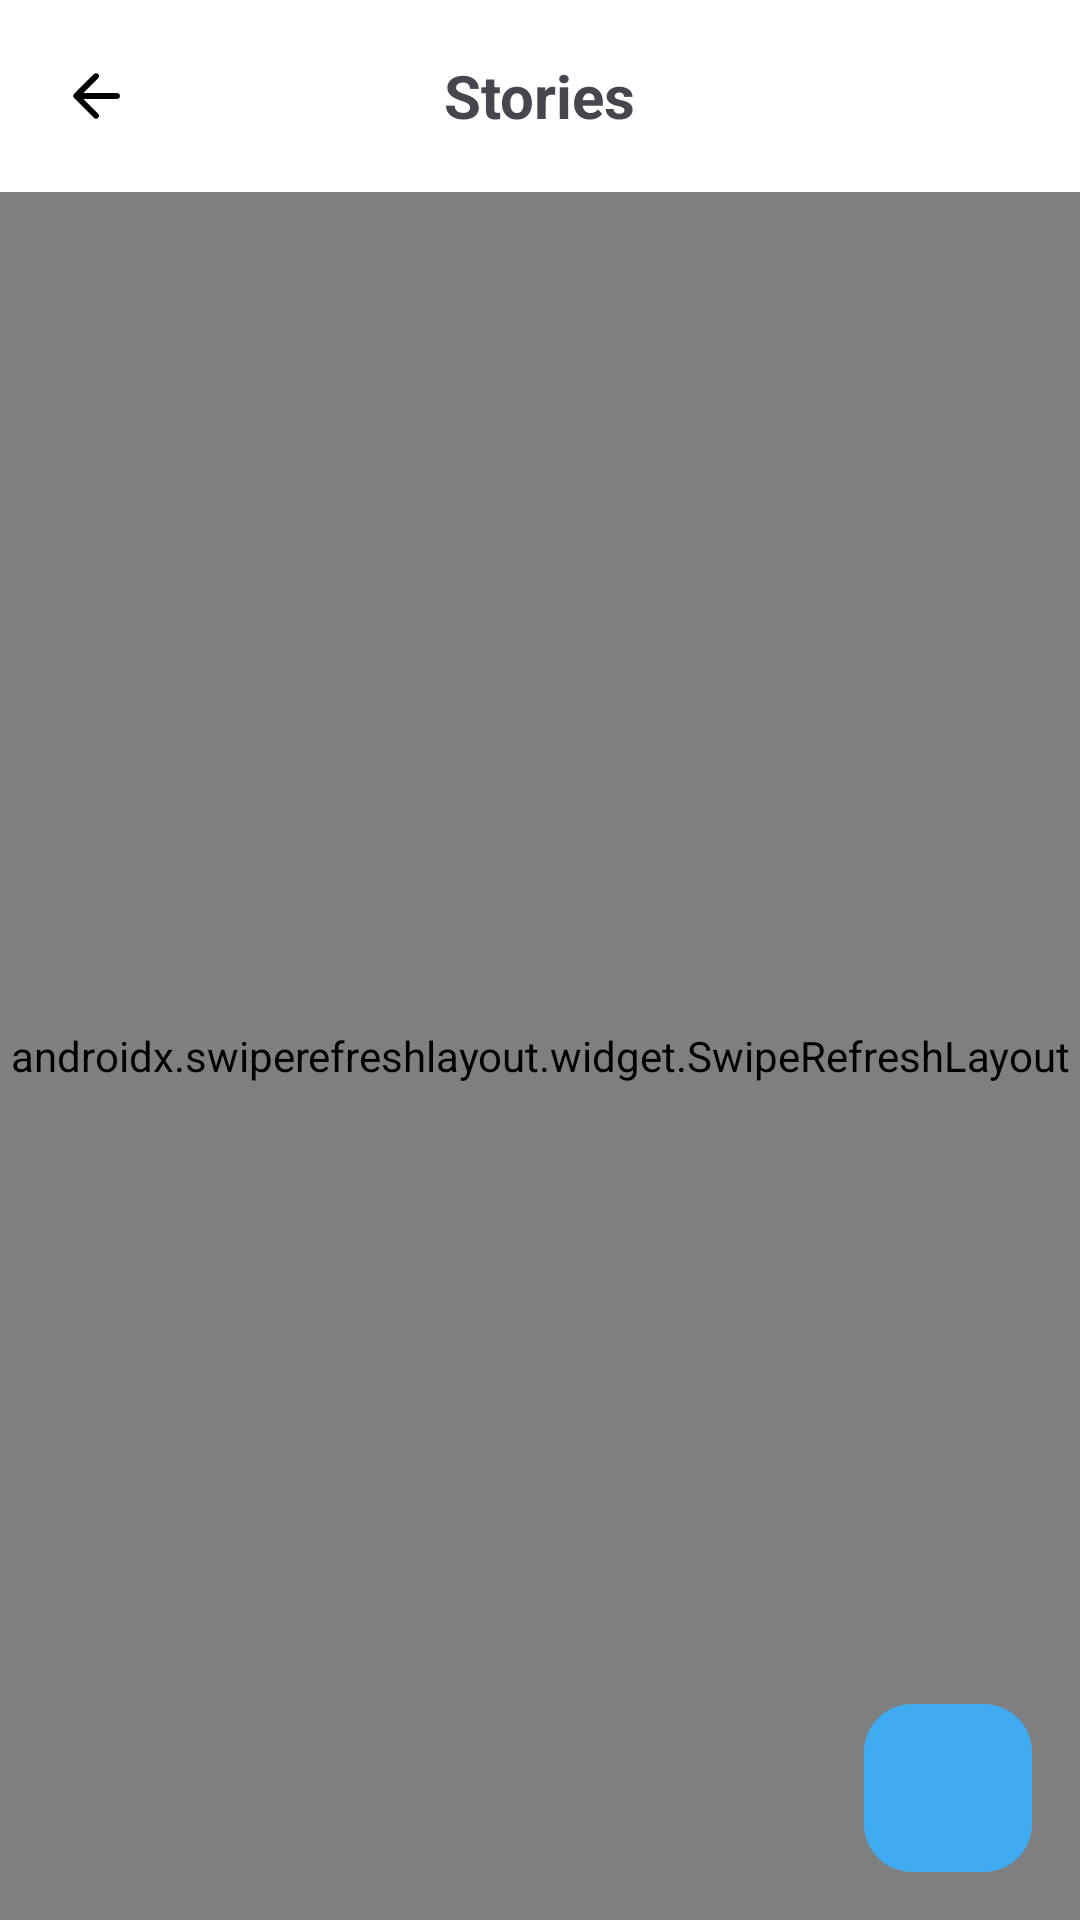

Screen size 1080x1920. Icon name, then its box in pixels as (x1, y1, x2, y2):
Go back to the previous screen: (73, 73, 120, 119)
